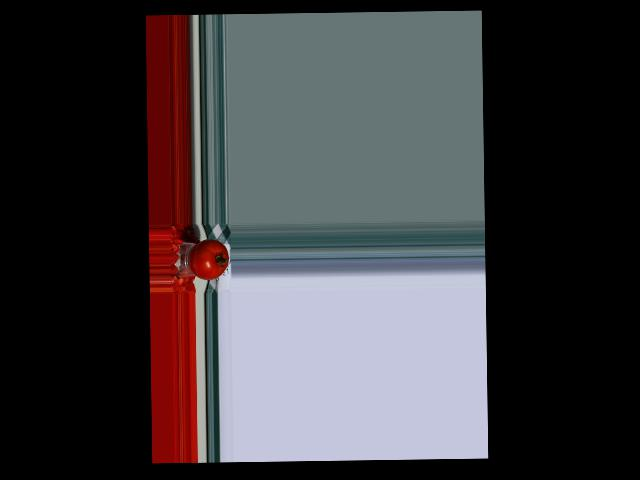tomato: (189, 239, 229, 281)
